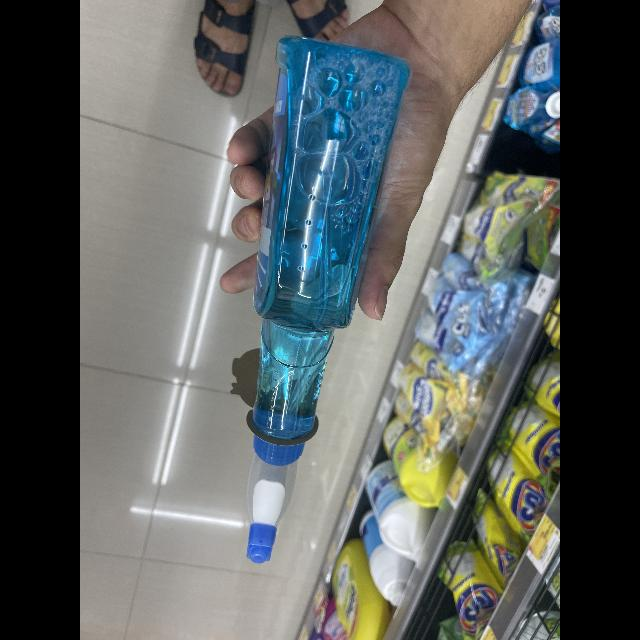chemical_plastic_bottle: (238, 31, 414, 566)
